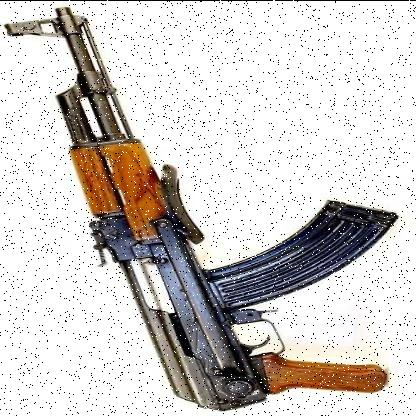rifle: (8, 4, 393, 410)
